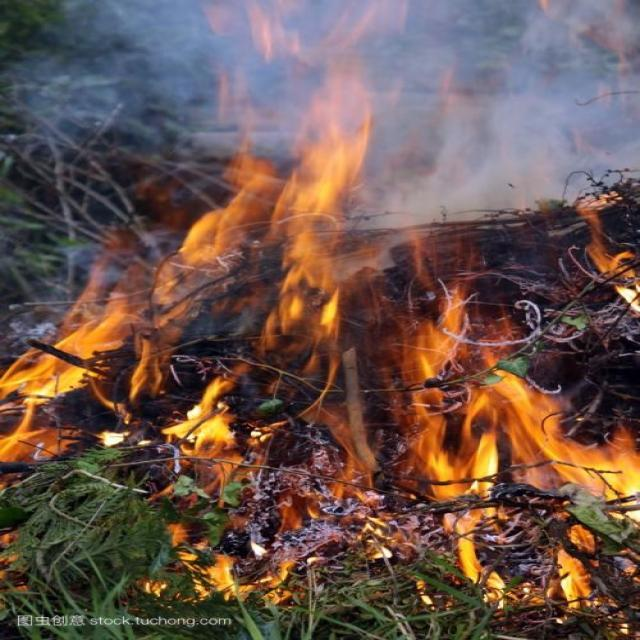Fire: (1, 1, 640, 610)
Smoke: (30, 1, 640, 289)
